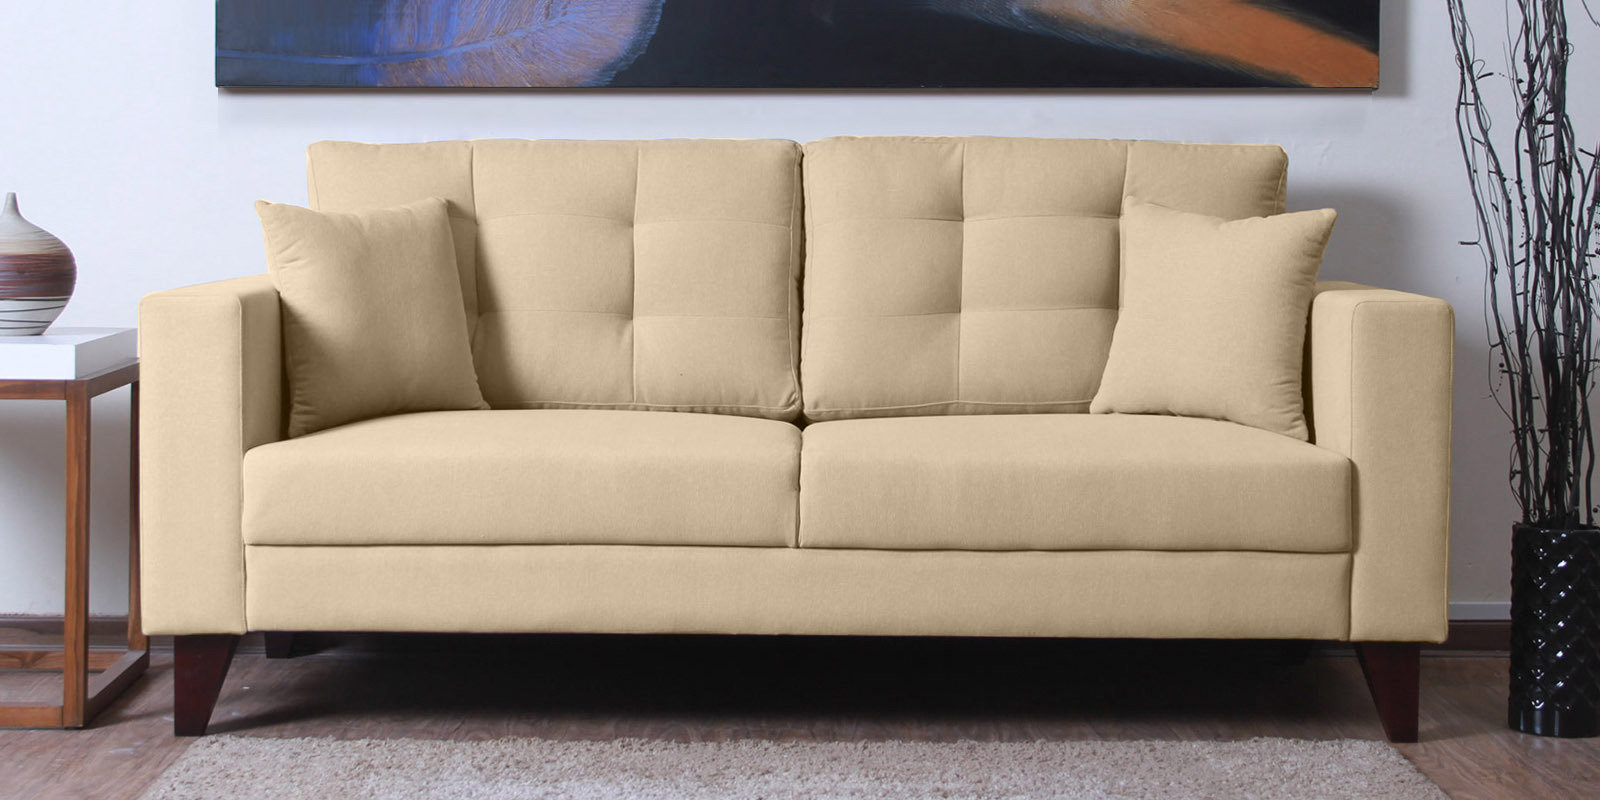Alfredo Three Seater Sofa in Beige Colour by CasaCraft: (124, 132, 1458, 757)
